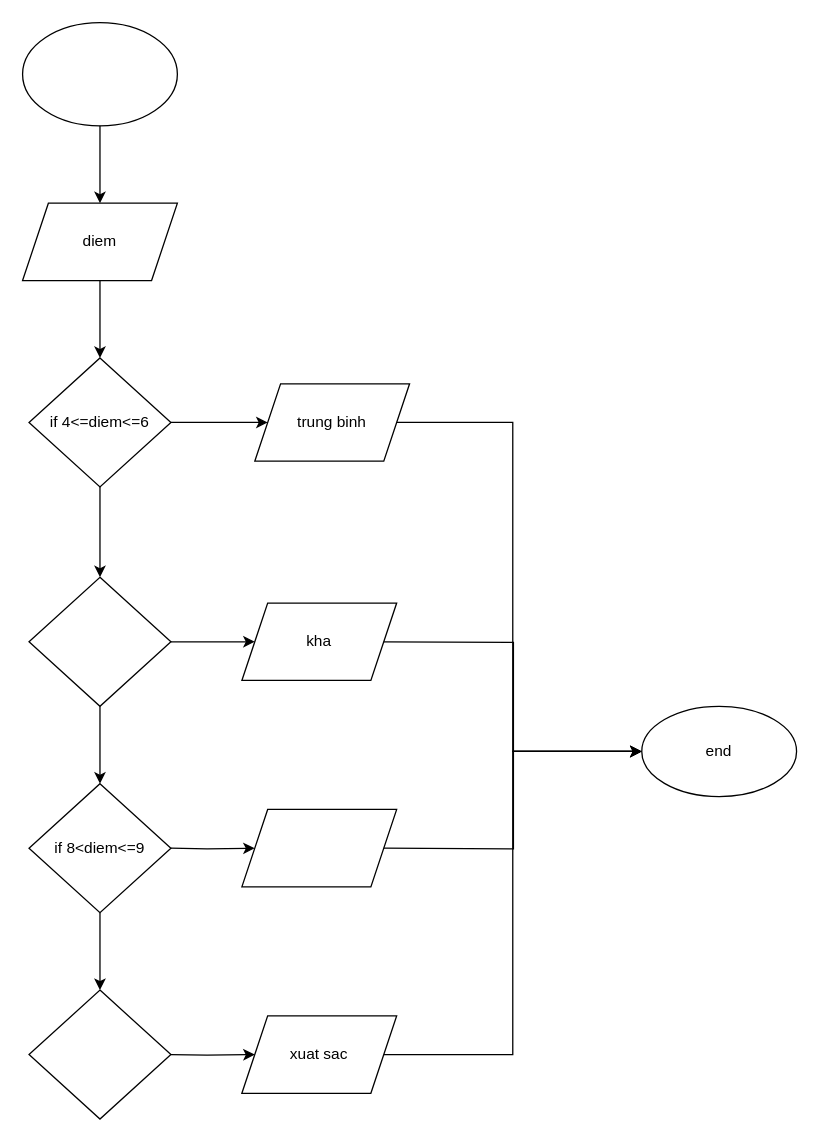
Some shapes in this 819 by 1142 pixel diagram are drawn without their labels. Each missing label, with the centre of its shape:
"gioi" goes at (x=319, y=847).
"if 6<diem<=8" goes at (x=99, y=641).
"if 9<diem<=10" goes at (x=99, y=1054).
"start" goes at (x=99, y=73).
